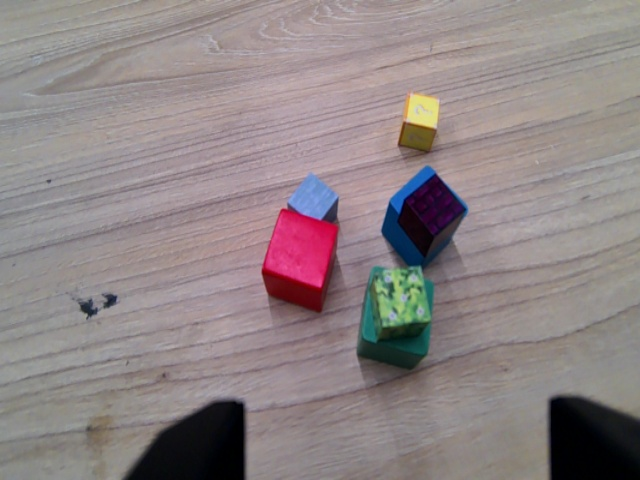brick: (398, 172, 465, 261)
grass: (367, 261, 435, 348)
lucky: (394, 91, 447, 156)
stone: (281, 172, 351, 236)
